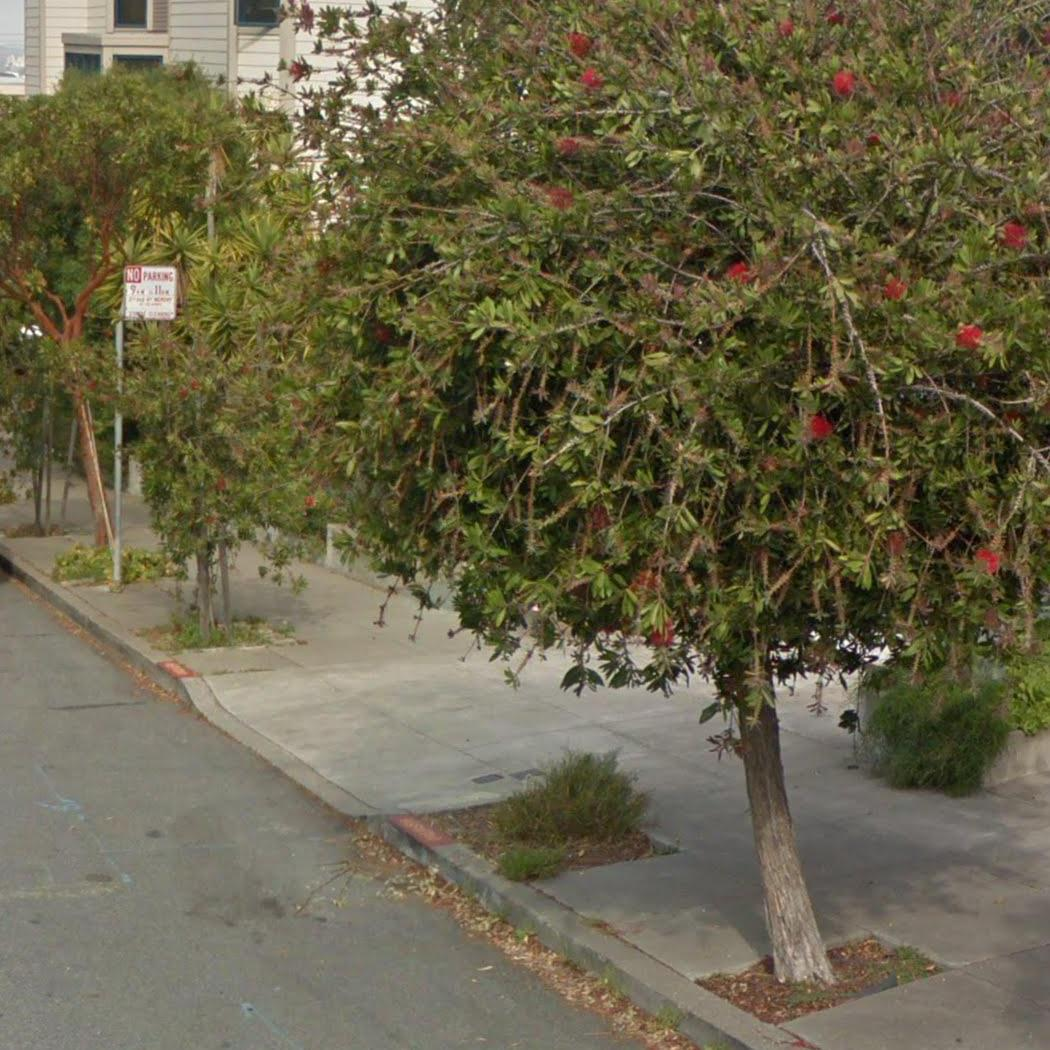No Parking: (126, 262, 180, 324)
